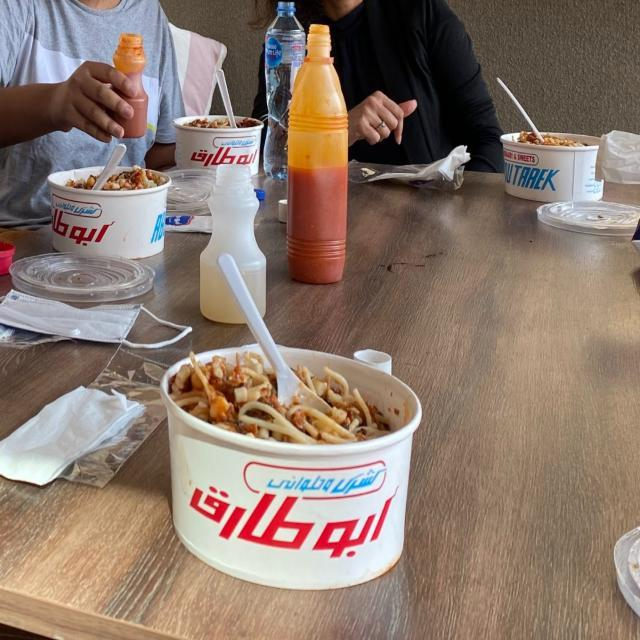koshary: (164, 345, 429, 455)
